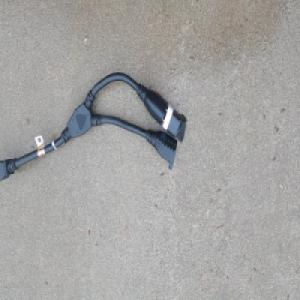Wire: (0, 69, 187, 183)
